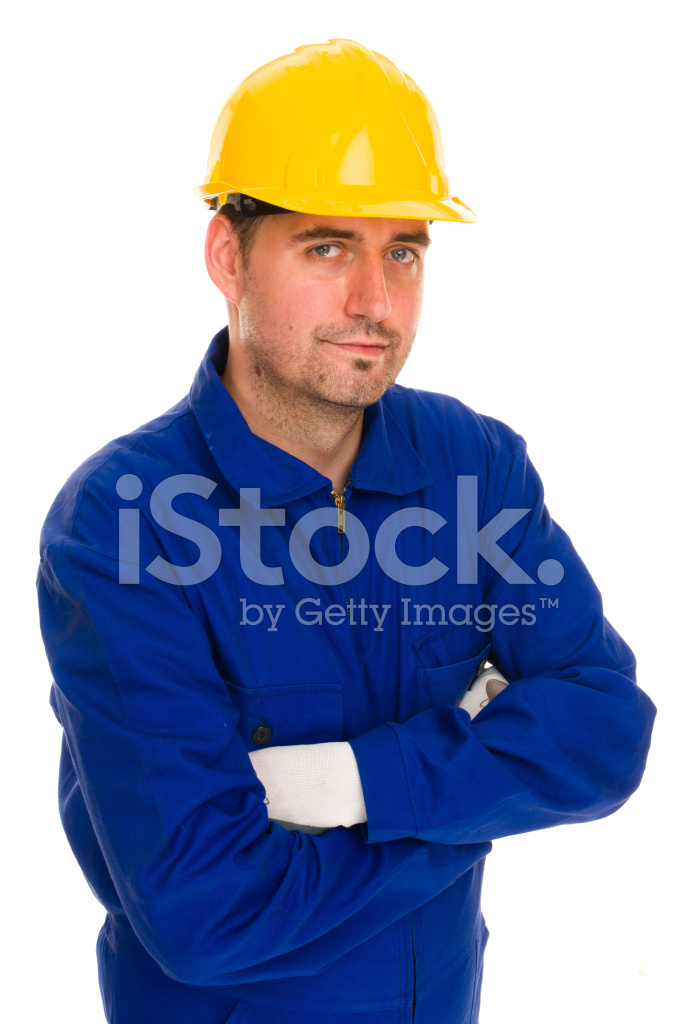safetyhat: (68, 35, 608, 1012)
